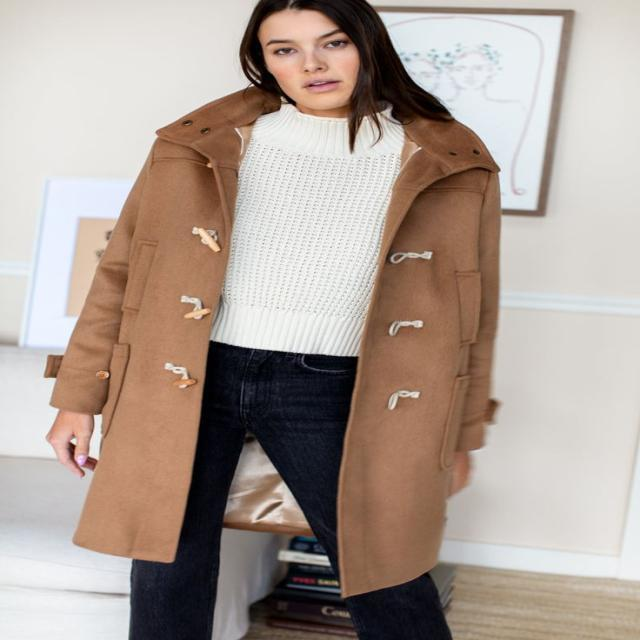coat: (45, 88, 504, 603)
sweater: (208, 96, 402, 361)
trousers: (128, 333, 456, 640)
